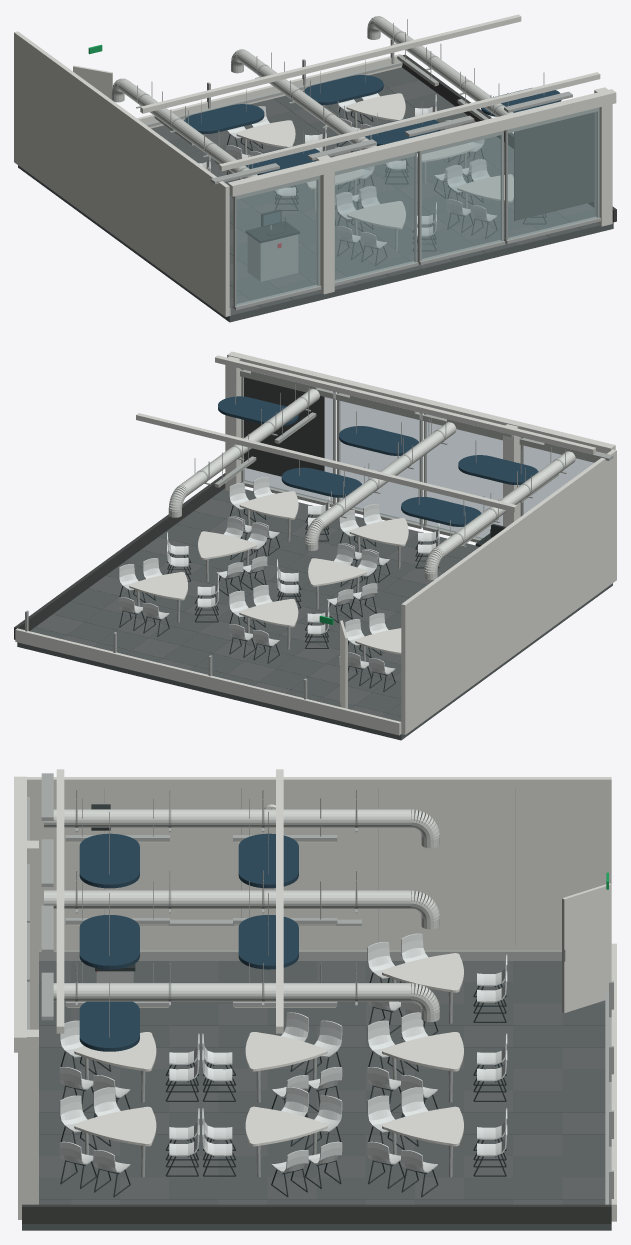
File: cbg-102-interior-fd8d36884a1f.glb
3 views of the same model, one above another, from view 1: azimuth 30°, elevation 25°; view 2: azimuth 150°, elevation 25°; view 3: azimuth 270°, elevation 25° (orthographic). The views are drawn at different scales.
Parts seen in each view (by area): view 1: cbg-102; view 2: cbg-102; view 3: cbg-102.
Part boxes in pixels (x1,y1,x2,y2): cbg-102: [14, 14, 616, 322]; cbg-102: [14, 351, 616, 740]; cbg-102: [14, 769, 616, 1230].
Size of the model in its own units: 11.58 by 4.09 by 10.99.
